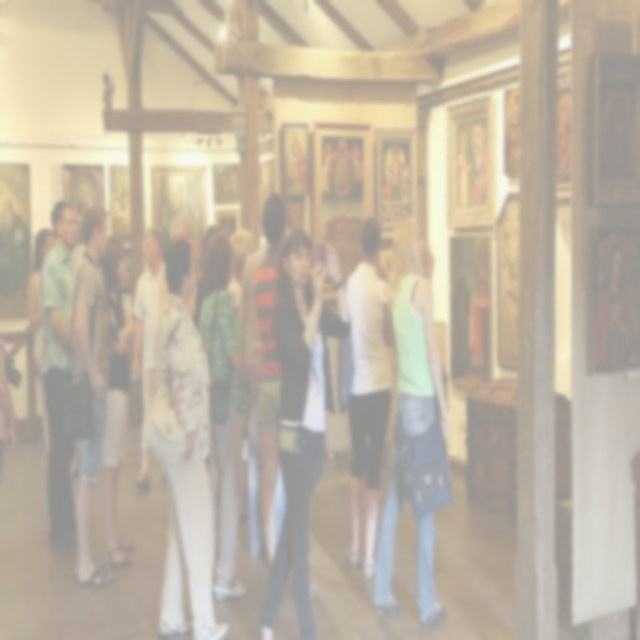pessoa: (253, 221, 352, 639), (141, 237, 230, 639), (370, 215, 456, 630), (197, 228, 254, 604), (341, 213, 396, 580), (68, 203, 114, 590), (252, 192, 294, 570), (238, 243, 286, 566), (40, 197, 80, 554), (197, 229, 245, 503), (100, 235, 138, 570), (130, 224, 170, 494), (26, 226, 60, 456), (596, 242, 640, 366), (158, 212, 198, 323), (500, 208, 523, 346), (0, 329, 22, 464), (226, 227, 256, 321), (323, 141, 363, 211), (457, 122, 487, 208), (383, 140, 407, 208), (504, 90, 520, 174), (98, 62, 116, 136), (556, 93, 572, 176), (456, 261, 469, 347), (288, 132, 306, 192), (212, 164, 240, 202), (66, 177, 96, 204), (264, 166, 272, 202)
